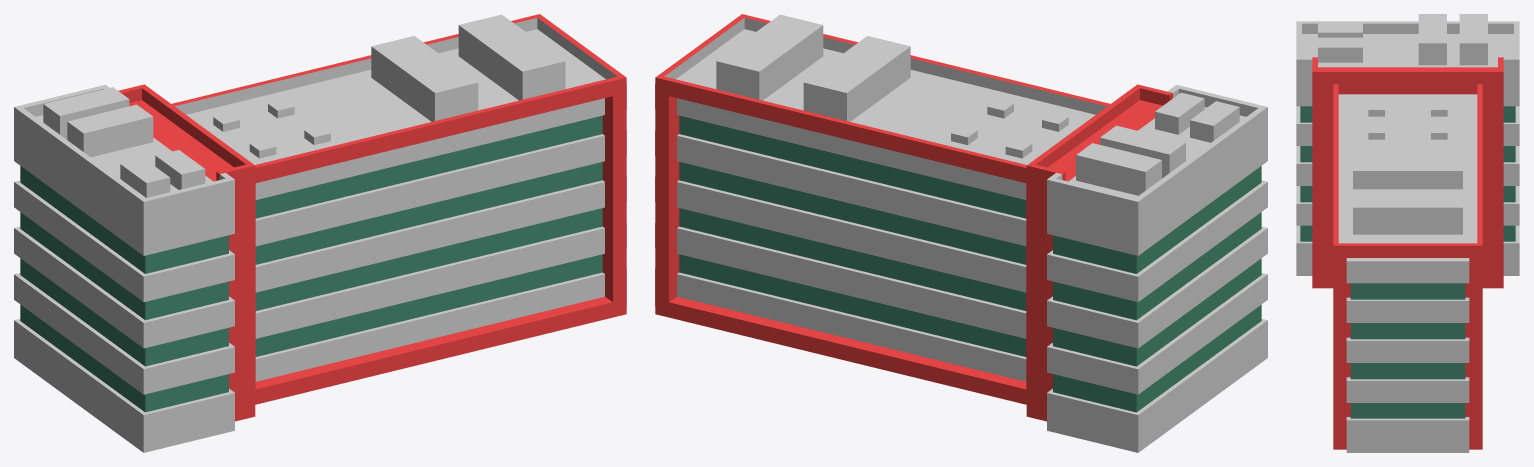
Rendered from Town_Bld-PublicE.FBX.
3 views of the same model, side by side, from view 1: azimuth 30°, elevation 25°; view 2: azimuth 150°, elevation 25°; view 3: azimuth 270°, elevation 25° (orthographic). The views are drawn at different scales.
Parts seen in each view (by area): view 1: Town_Bld-PublicE; view 2: Town_Bld-PublicE; view 3: Town_Bld-PublicE.
Part boxes in pixels (x1,y1,x2,y2): Town_Bld-PublicE: (14, 14, 626, 452); Town_Bld-PublicE: (655, 14, 1267, 452); Town_Bld-PublicE: (1296, 14, 1519, 452).
Size of the model in its own units: 2064 by 1020 by 905.
